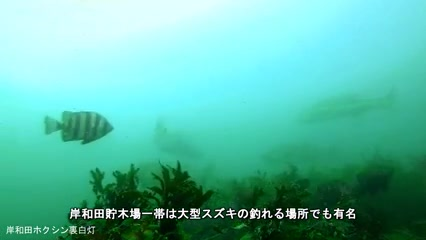ishidai: (45, 107, 120, 150)
